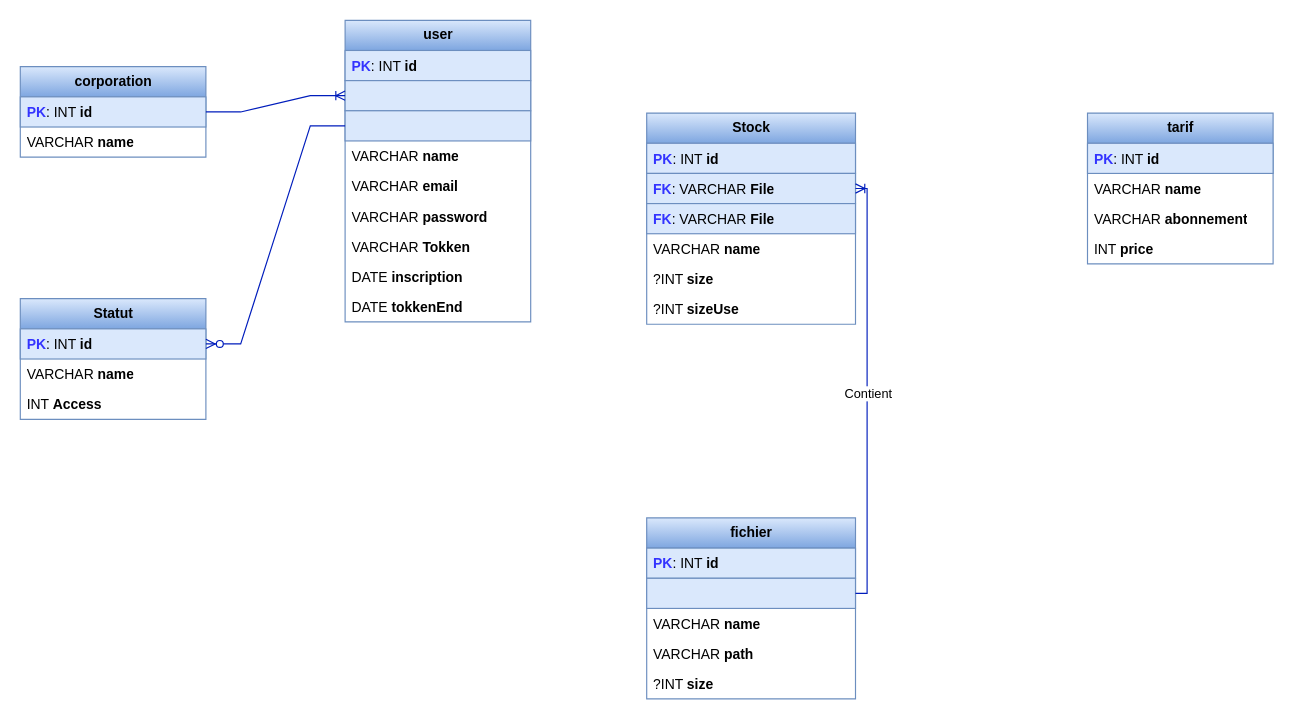
Image size: 1293x723. Some labels were removed from this diagram. Each missing label, with the centre of its shape:
FK : INT idCorp: the point at 437,95
PFK : INT idStatus: the point at 437,125
UK : VARCHAR idFile: the point at 750,592
